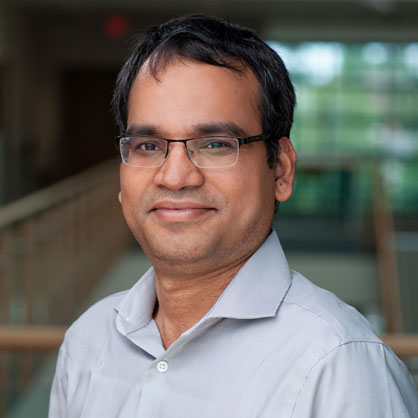Staff: (63, 21, 334, 317)
